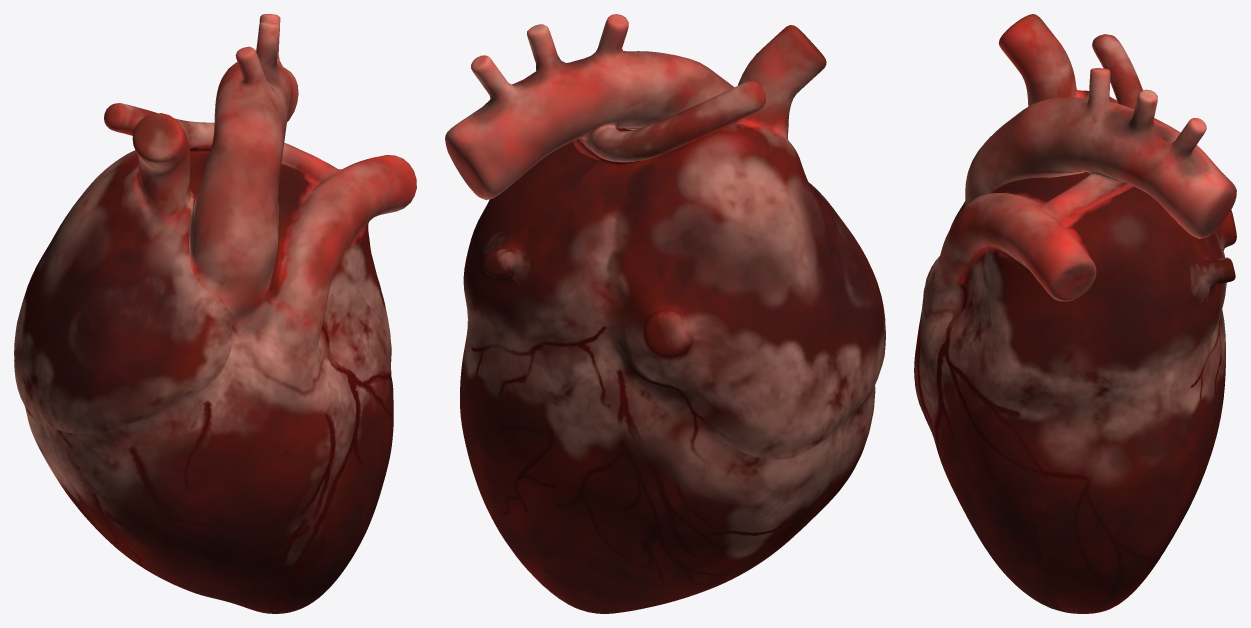
Rendered from biosynthetic-heart-c.glb.
The picture shows the model from 3 angles, left to right: view 1: azimuth 30°, elevation 25°; view 2: azimuth 150°, elevation 25°; view 3: azimuth 270°, elevation 25°; orthographic projection. The views are drawn at different scales.
Visible parts, largest first — view 1: hart:ZBrush_defualt_group_Heart Tex_0; view 2: hart:ZBrush_defualt_group_Heart Tex_0; view 3: hart:ZBrush_defualt_group_Heart Tex_0.
Boxes of the visible parts, <box> form: hart:ZBrush_defualt_group_Heart Tex_0: <box>14,14,416,613</box>; hart:ZBrush_defualt_group_Heart Tex_0: <box>445,14,885,613</box>; hart:ZBrush_defualt_group_Heart Tex_0: <box>914,14,1236,613</box>.
Bounding box in the file's own units: 1.08 × 1.6 × 0.8802.
1 material, 1 textured.
